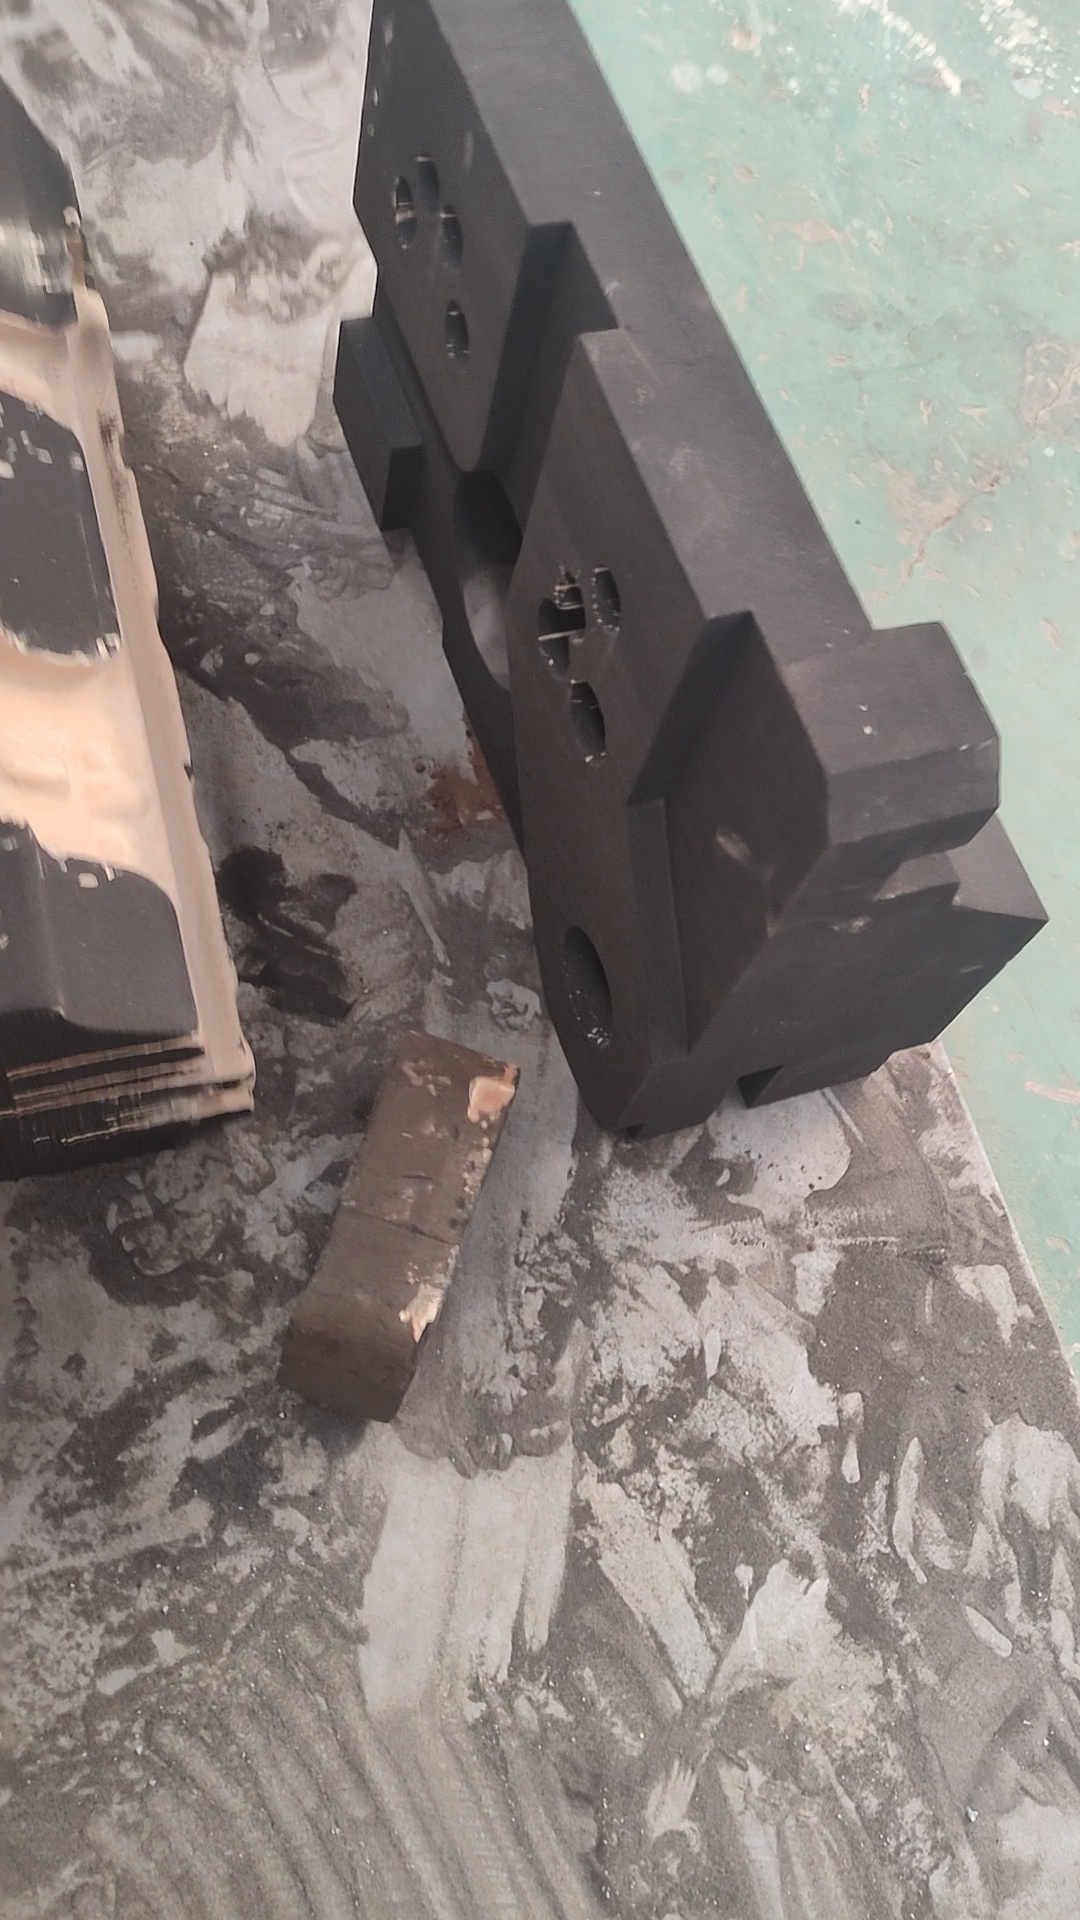pouring hole: (553, 924, 615, 1054)
